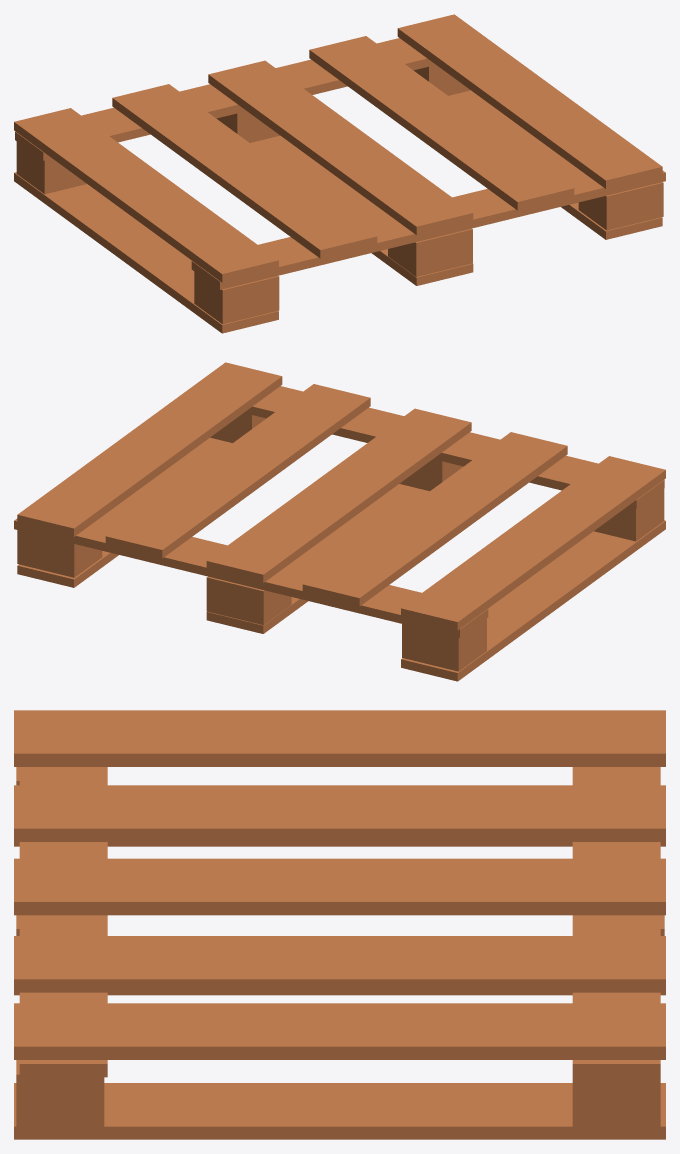
Rendered from pallet_01.fbx.
3 views of the same model, one above another, from view 1: azimuth 30°, elevation 25°; view 2: azimuth 150°, elevation 25°; view 3: azimuth 270°, elevation 25° (orthographic). The views are drawn at different scales.
Parts seen in each view (by area): view 1: pallet_01; view 2: pallet_01; view 3: pallet_01.
Part boxes in pixels (x1=…): pallet_01: x1=14, y1=14, x2=665, y2=333; pallet_01: x1=14, y1=362, x2=665, y2=681; pallet_01: x1=14, y1=710, x2=665, y2=1139.
Size of the model in its own units: 110 by 14 by 88.9.
1 material, 1 textured.
